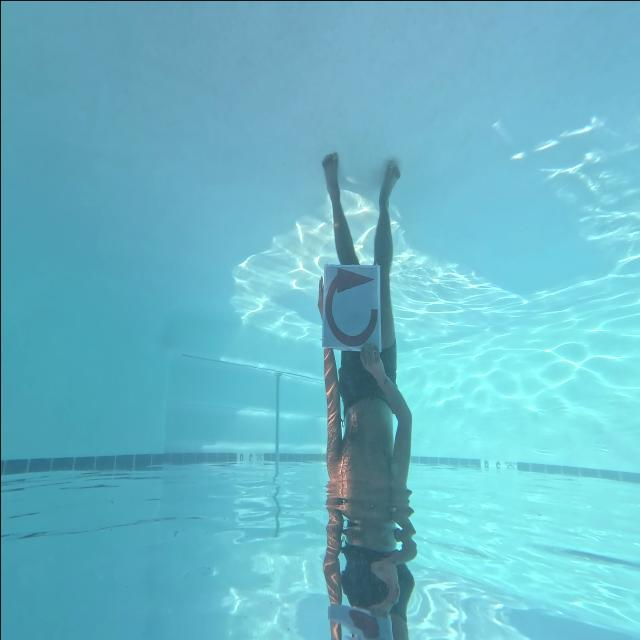red_side: (318, 251, 384, 355)
